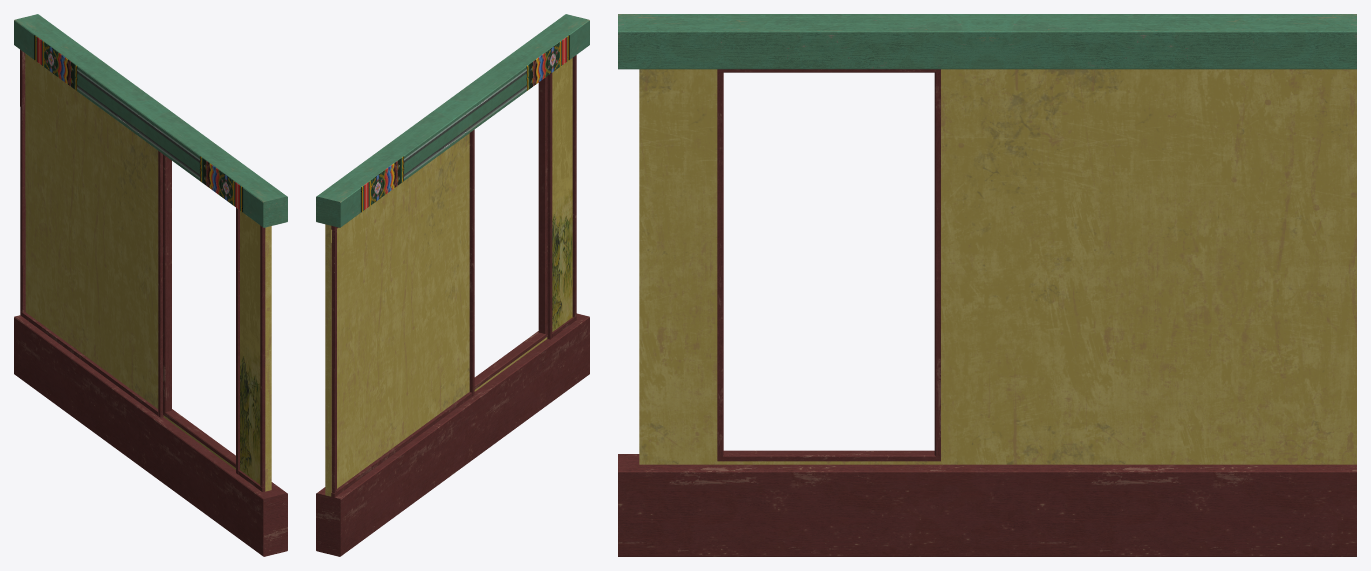
File: SM_Wall03a.fbx
3 renders of one model, left to right at view 1: azimuth 30°, elevation 25°; view 2: azimuth 150°, elevation 25°; view 3: azimuth 270°, elevation 25°, orthographic. The views are drawn at different scales.
Visible parts, largest first — view 1: SM_Wall03a; view 2: SM_Wall03a; view 3: SM_Wall03a.
Boxes of the visible parts, bbox=[...] form: SM_Wall03a: bbox=[14, 14, 287, 556]; SM_Wall03a: bbox=[316, 14, 589, 556]; SM_Wall03a: bbox=[618, 14, 1356, 556].
Bounding box in the file's own units: 20 × 275 × 350.
